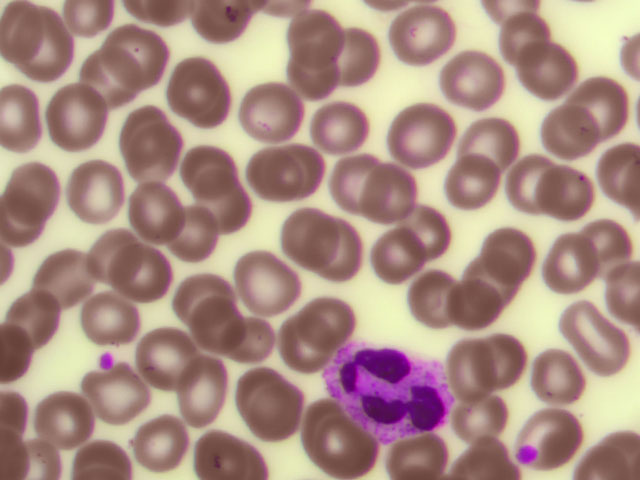Platelets: (517, 447, 543, 462), (96, 353, 113, 371)
RBC: (314, 415, 377, 480), (194, 415, 257, 480), (131, 415, 194, 480), (12, 10, 75, 74), (76, 43, 139, 107), (115, 20, 178, 84), (49, 85, 112, 149), (3, 158, 66, 222), (66, 160, 129, 224), (115, 123, 178, 187), (116, 97, 179, 161), (173, 63, 236, 127), (241, 75, 304, 139), (282, 51, 345, 115), (282, 1, 345, 65), (324, 25, 387, 89), (393, 7, 456, 71), (444, 47, 507, 111), (483, 8, 546, 72), (517, 36, 580, 100), (566, 70, 629, 134), (542, 104, 605, 168), (464, 106, 527, 170), (429, 154, 492, 218), (396, 104, 459, 168), (367, 163, 430, 227), (324, 152, 387, 216), (308, 98, 371, 162), (277, 138, 340, 202), (230, 146, 293, 210), (178, 133, 241, 197), (196, 172, 259, 236), (166, 206, 229, 270), (118, 174, 181, 238), (124, 239, 187, 303), (77, 232, 140, 296), (32, 249, 95, 313), (14, 286, 77, 350), (81, 286, 144, 350), (138, 327, 201, 391), (169, 361, 232, 425), (186, 296, 249, 360), (175, 268, 238, 332), (220, 305, 283, 369), (226, 251, 289, 315), (267, 314, 330, 378), (299, 283, 362, 347), (311, 224, 374, 288), (282, 200, 345, 264), (358, 221, 421, 285), (400, 195, 463, 259), (402, 270, 465, 334), (432, 268, 495, 332), (461, 242, 524, 306), (483, 212, 546, 276), (530, 234, 593, 298), (563, 217, 626, 281), (566, 304, 629, 368), (532, 342, 595, 406), (472, 330, 535, 394), (444, 343, 507, 407), (447, 382, 510, 446), (537, 403, 600, 467), (245, 383, 308, 447), (227, 361, 290, 425), (78, 364, 141, 428), (32, 389, 95, 453), (1, 86, 63, 150), (69, 426, 132, 480)
WBC: (327, 343, 452, 444)
